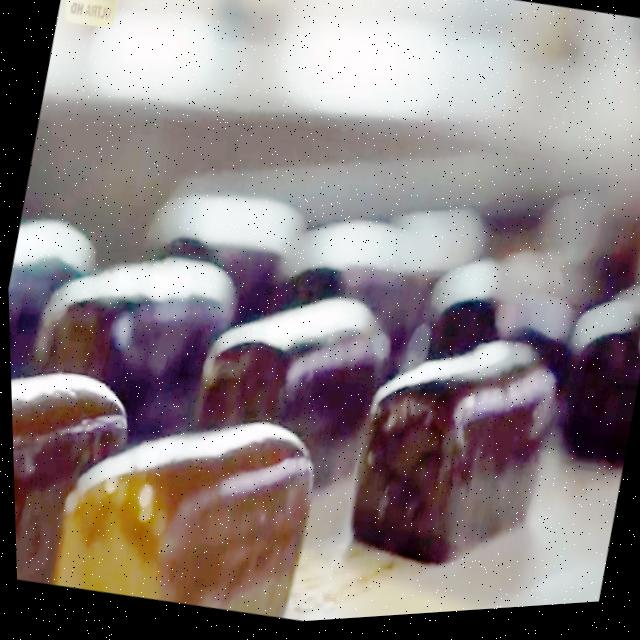Choco: (1, 22, 640, 640), (42, 379, 329, 630), (331, 311, 571, 596), (175, 262, 404, 500), (23, 220, 246, 426), (8, 347, 141, 591)
